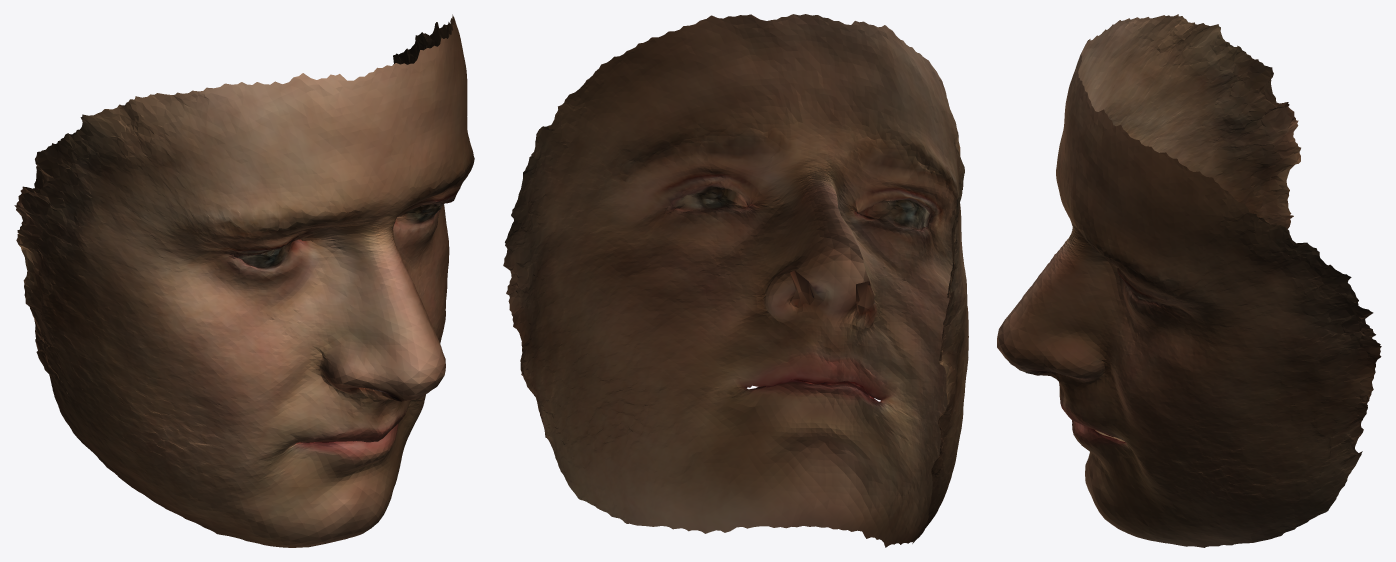
3 renders of one model, left to right at view 1: azimuth 30°, elevation 25°; view 2: azimuth 150°, elevation 25°; view 3: azimuth 270°, elevation 25°, orthographic. The views are drawn at different scales.
Bounding box in the file's own units: 1.54 × 1.77 × 1.34.
